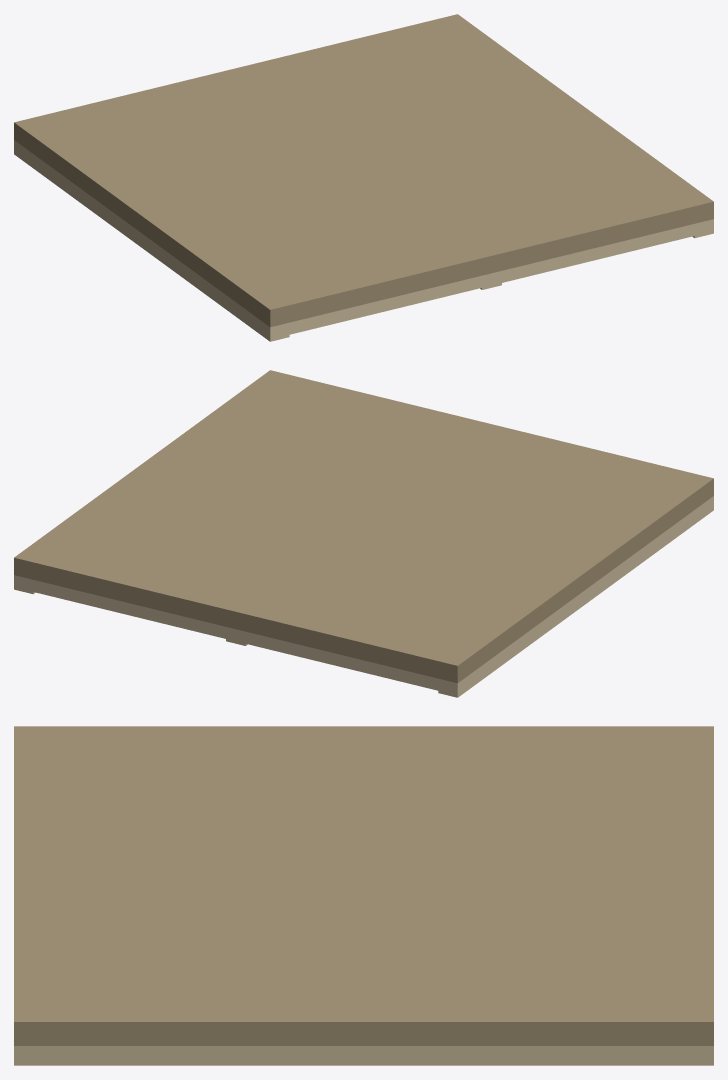
Rendered from Ceiling_8x8.fbx.
The picture shows the model from 3 angles, top to bottom: view 1: azimuth 30°, elevation 25°; view 2: azimuth 150°, elevation 25°; view 3: azimuth 270°, elevation 25°; orthographic projection. The views are drawn at different scales.
Visible parts, largest first — view 1: Ceiling_8x8; view 2: Ceiling_8x8; view 3: Ceiling_8x8.
Boxes of the visible parts, box(x1,y1,x2,y2) form: Ceiling_8x8: box(14, 14, 713, 341); Ceiling_8x8: box(14, 370, 713, 697); Ceiling_8x8: box(14, 726, 713, 1065).
Size of the model in its own units: 8 by 0.55 by 8.
1 material, 1 textured.
